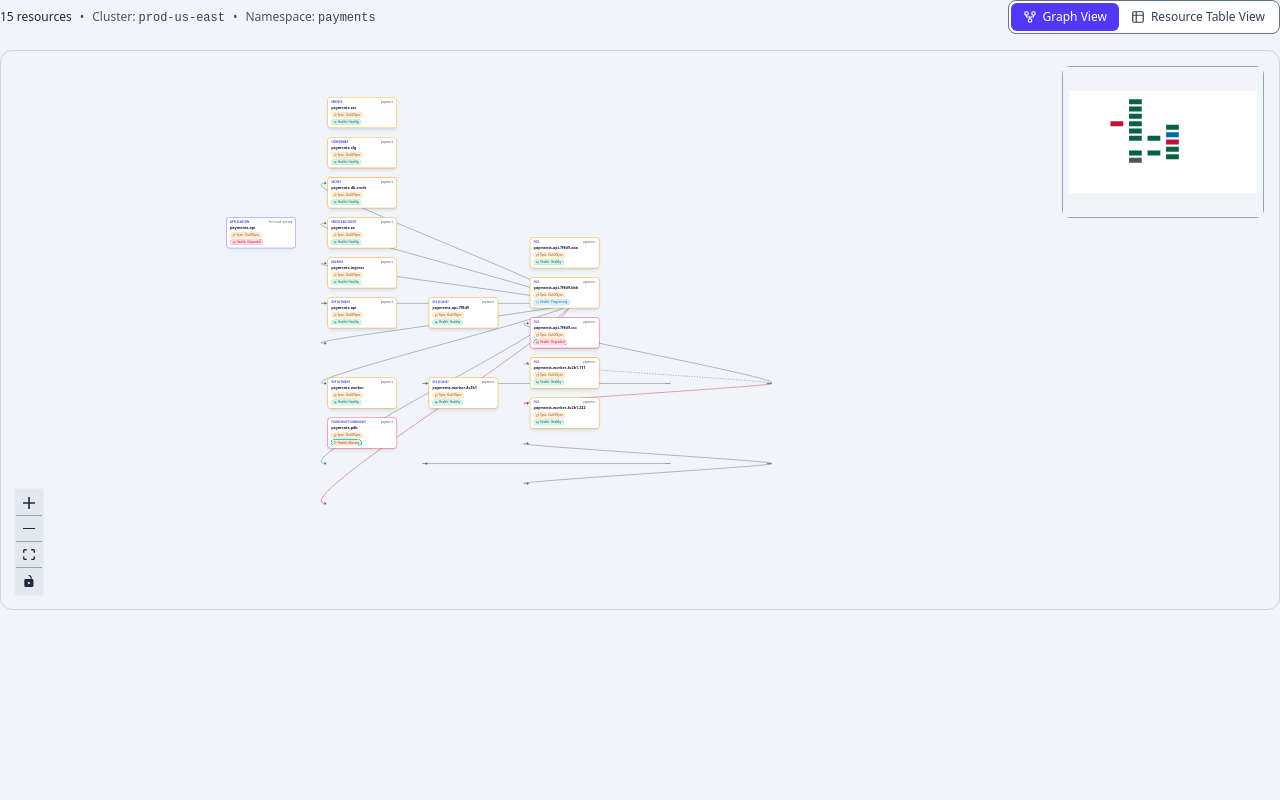
Test case: ResourceGraph & dagre layout (T16.3 & Trap Guard T16.3) › closes the inspector when the inspected resource disappears from a poll (M3)
Click the button "Resource Table View". click: {"x": 1198, "y": 17}
box: x1=1119 y1=3 x2=1277 y2=31
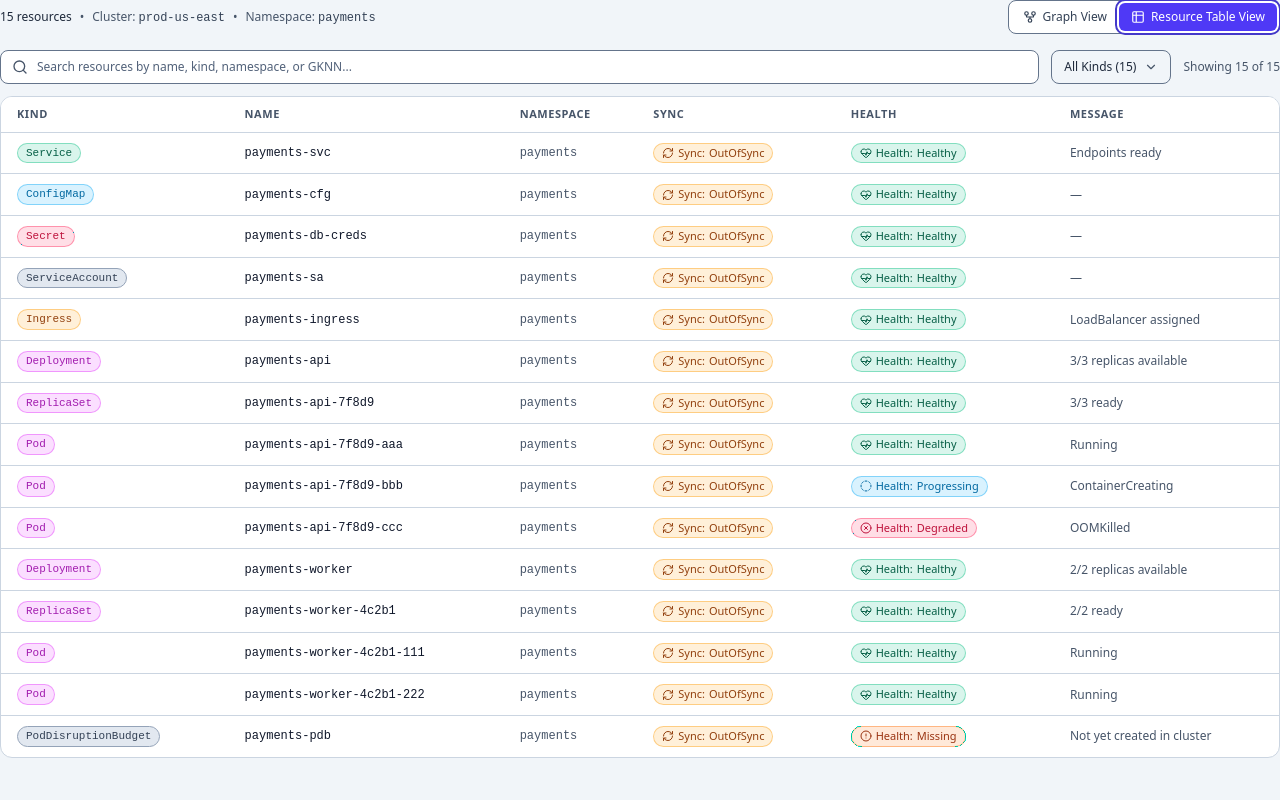
Click the text "payments-api-7f8d9-ccc". click: {"x": 366, "y": 528}
box: x1=229 y1=507 x2=504 y2=549
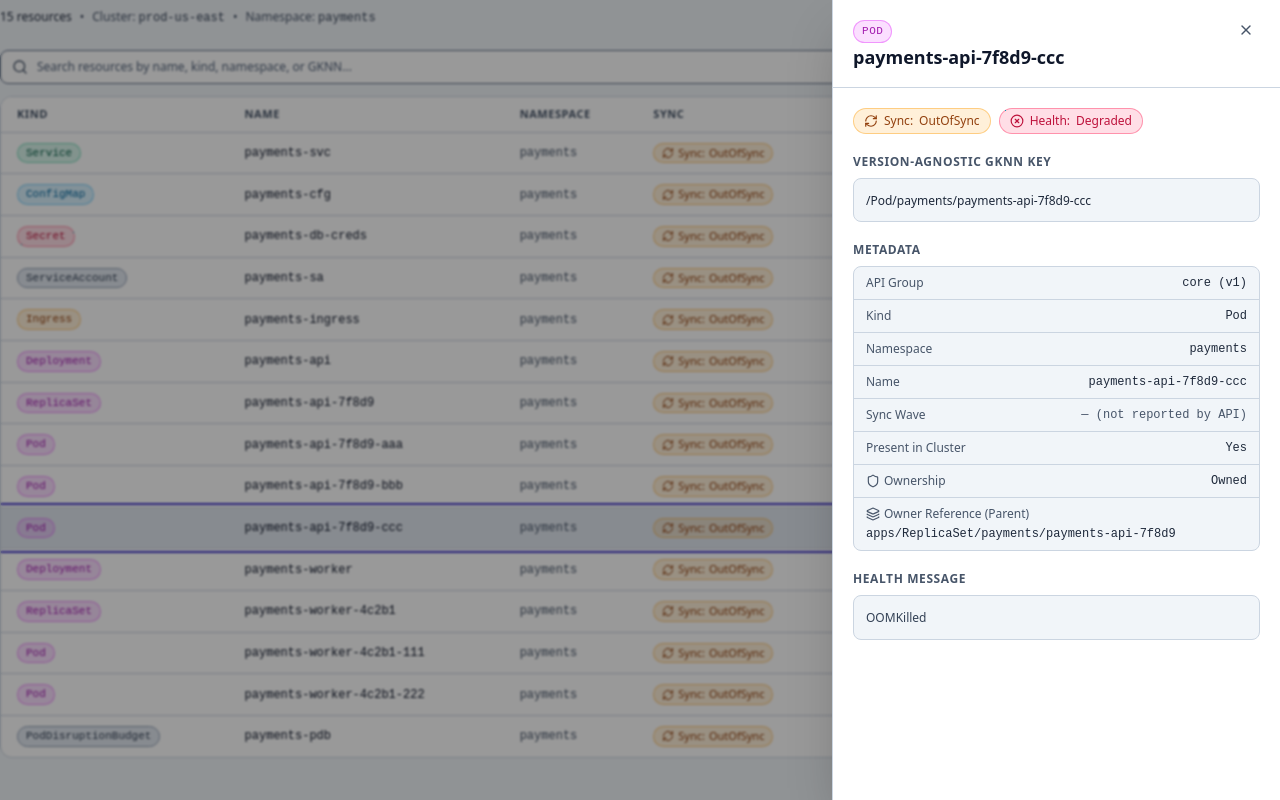
Now the element with test id "resource-inspector" is shown, box x1=832 y1=0 x2=1279 y2=799
